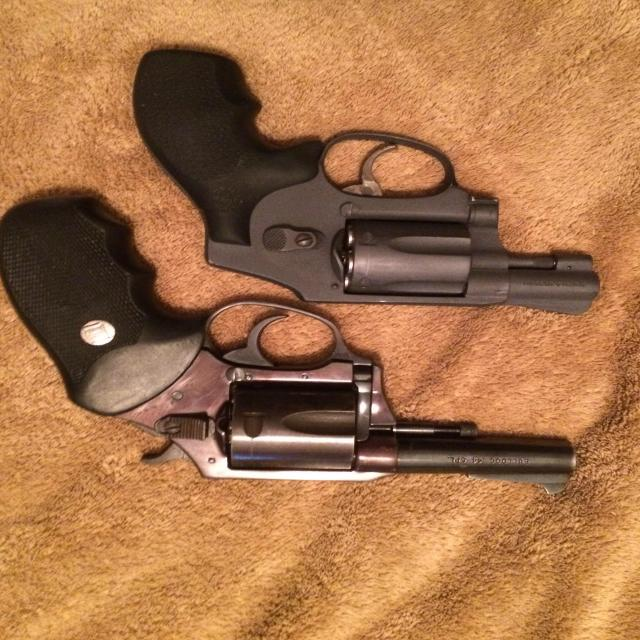Gun: (0, 182, 586, 516), (119, 40, 632, 338)
